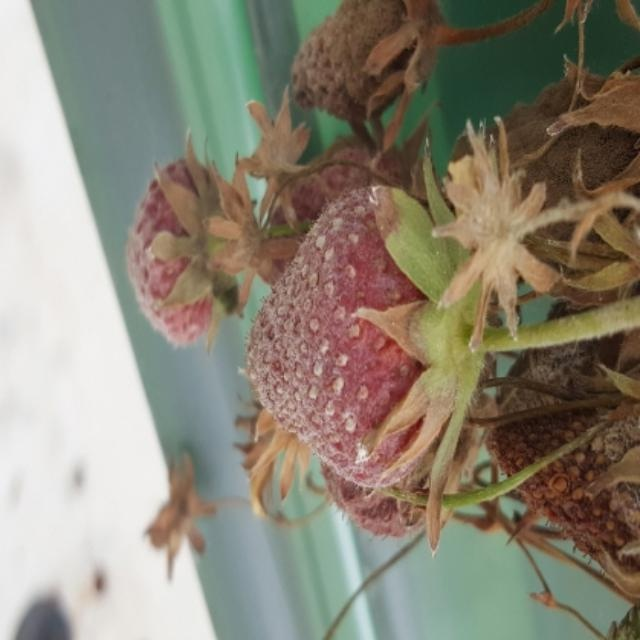Powdery Mildew Fruit: (239, 187, 474, 488), (485, 280, 640, 603), (442, 76, 640, 280), (289, 0, 440, 123)
